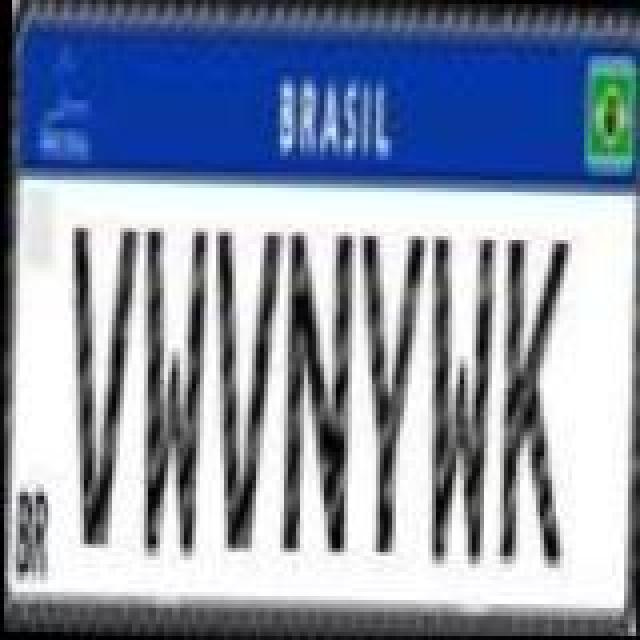K: (494, 234, 570, 574)
N: (276, 220, 356, 560)
V: (60, 220, 140, 548), (204, 224, 284, 552)
W: (130, 224, 206, 564), (418, 232, 494, 572)
Y: (350, 228, 426, 556)
